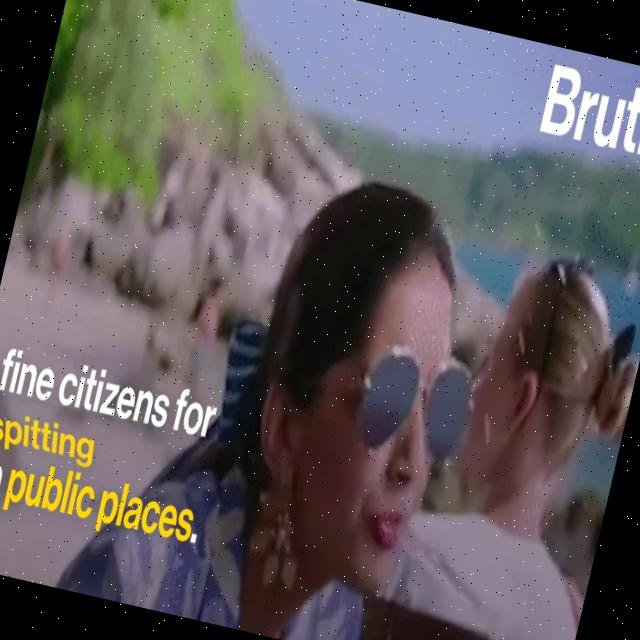spit: (337, 326, 550, 640)
